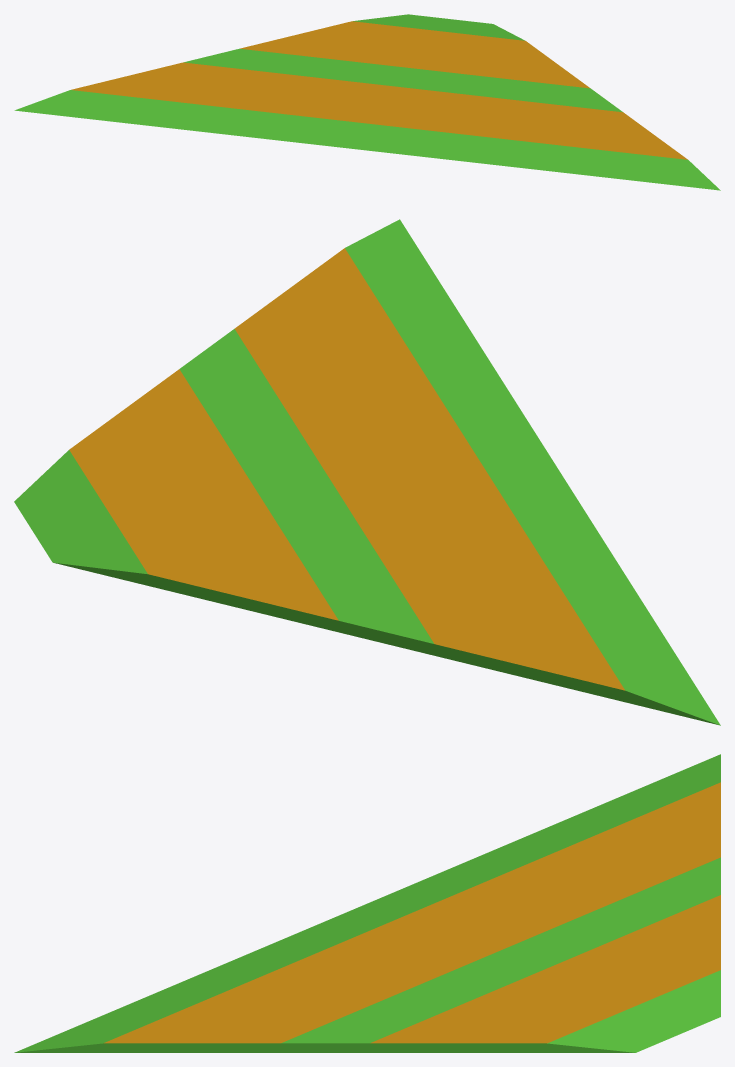
Rendered from Road Angle .fbx.
3 renders of one model, top to bottom at view 1: azimuth 30°, elevation 25°; view 2: azimuth 150°, elevation 25°; view 3: azimuth 270°, elevation 25°, orthographic. The views are drawn at different scales.
Parts seen in each view (by area): view 1: Road Angle 90 deg; view 2: Road Angle 90 deg; view 3: Road Angle 90 deg.
Part boxes in pixels (box(x1,y1,x2,y2)): Road Angle 90 deg: box(14, 14, 720, 190); Road Angle 90 deg: box(14, 219, 720, 725); Road Angle 90 deg: box(14, 754, 720, 1052).
Size of the model in its own units: 1364 by 20 by 1364.
